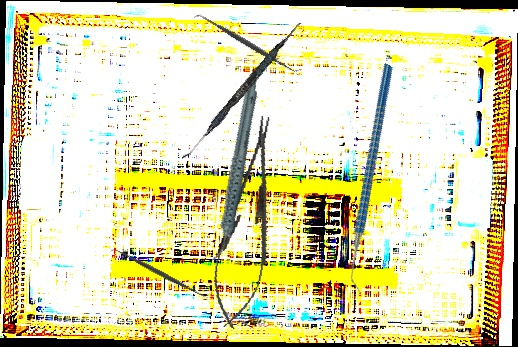Chopper: (280, 62, 467, 297)
Handpiece: (174, 75, 295, 264)
Needle Holder: (204, 112, 292, 333)
Spatula Surgical: (181, 17, 303, 165), (193, 7, 303, 80), (109, 242, 212, 304)
